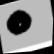correct: (2, 4, 35, 39)
